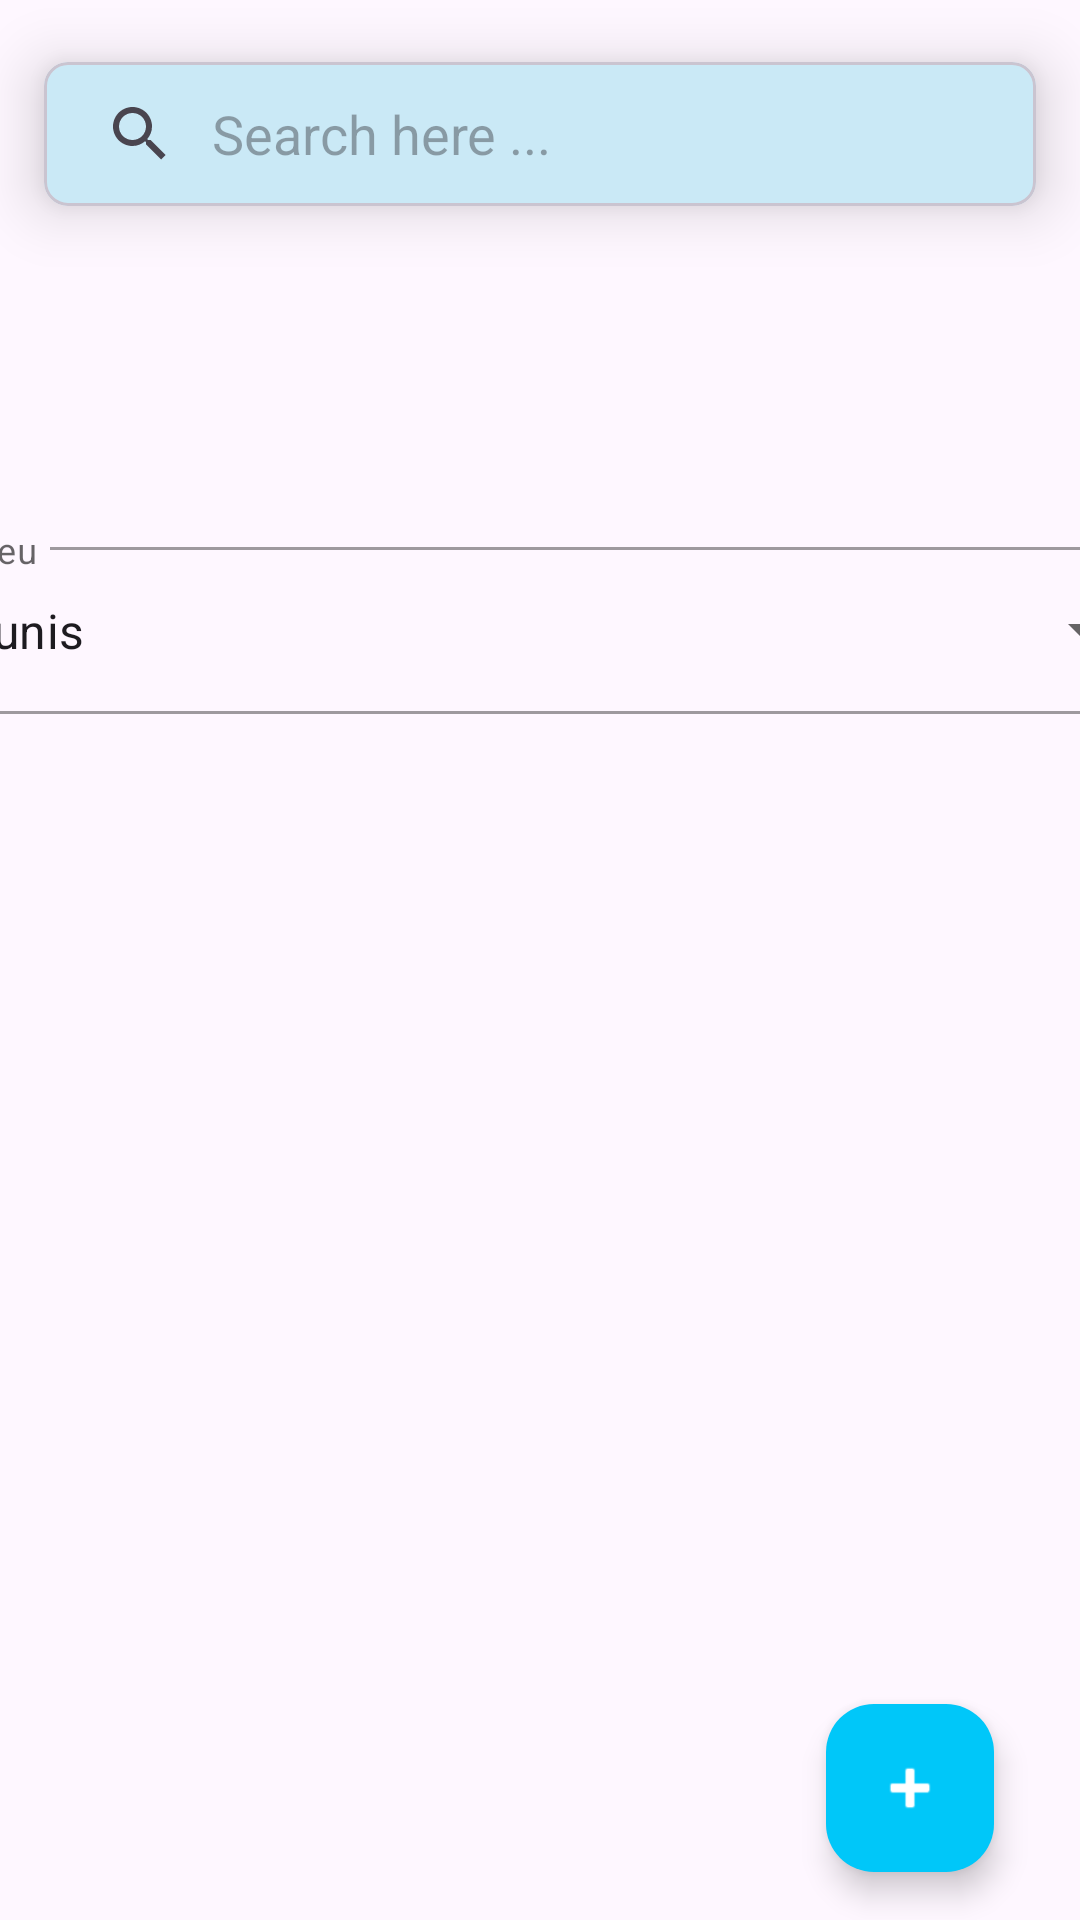

Icons on this 1080x1920 Android screen, each with the point to tap as point (x, y):
Ajouter une opportunité: point (910, 1788)
